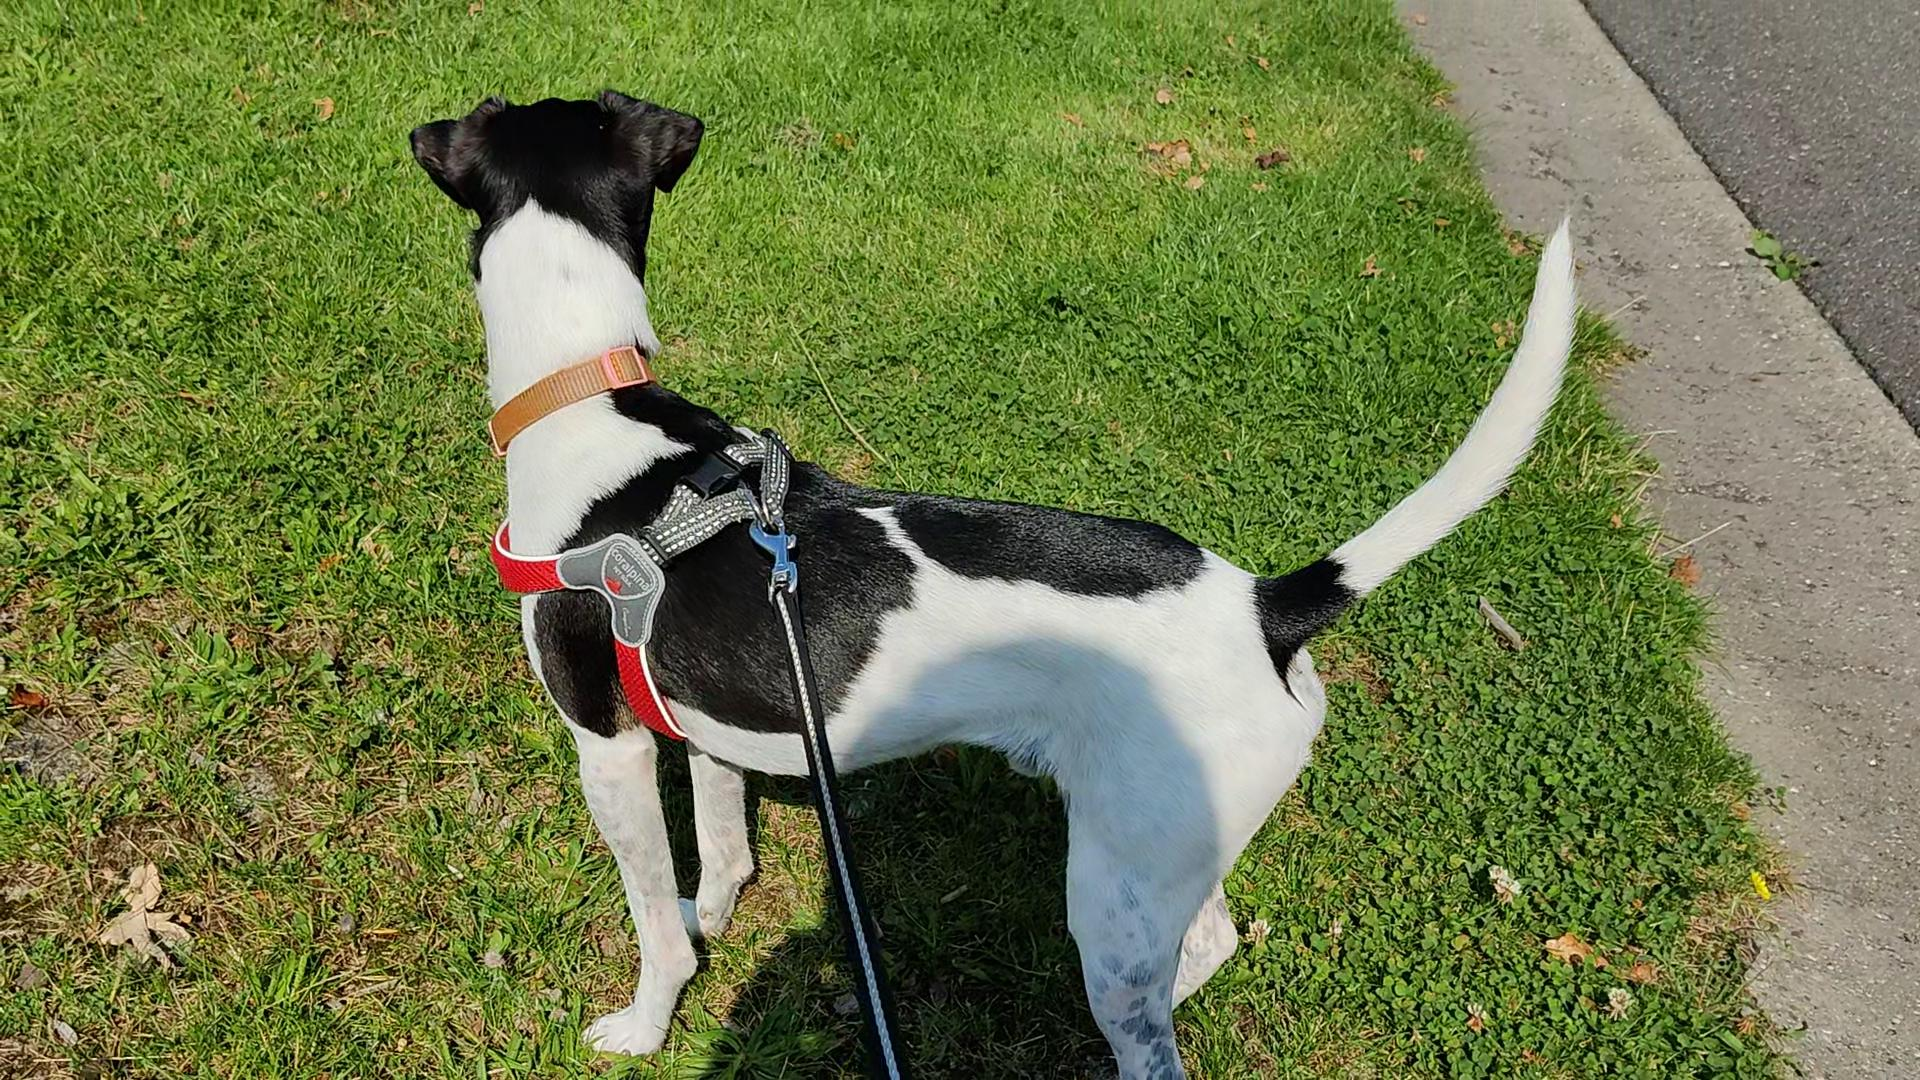Dog: (400, 73, 1600, 1079)
